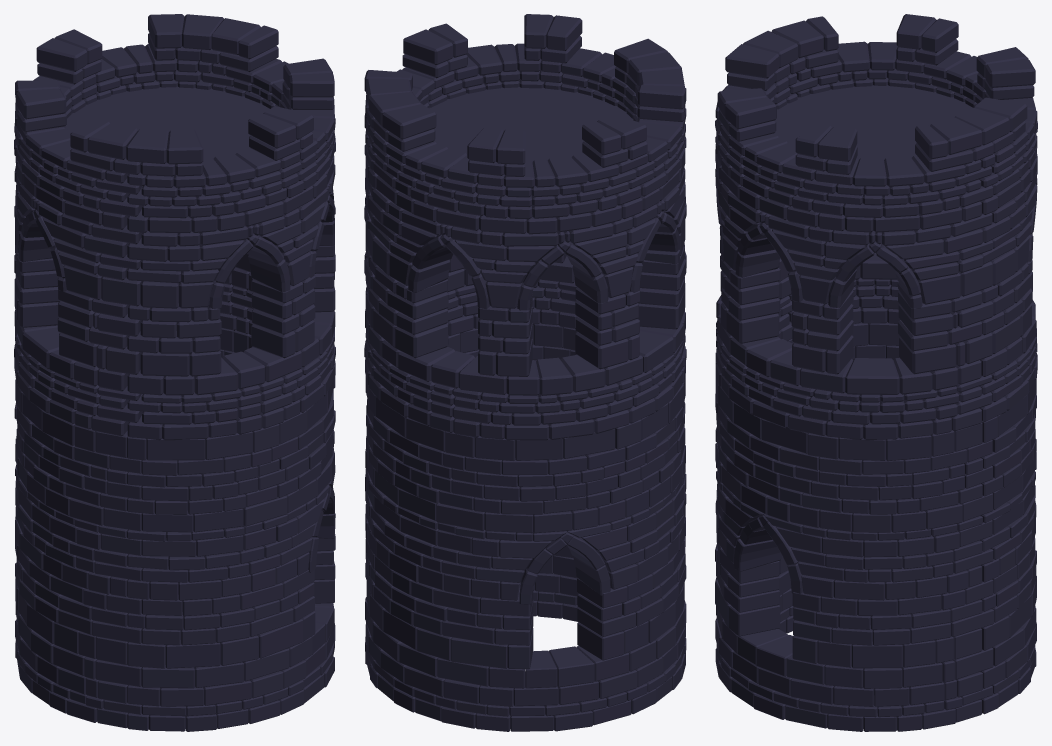
File: tower.fbx
3 renders of one model, left to right at view 1: azimuth 30°, elevation 25°; view 2: azimuth 150°, elevation 25°; view 3: azimuth 270°, elevation 25°, orthographic.
Parts seen in each view (by area): view 1: Wall.002; view 2: Wall.002; view 3: Wall.002.
Part boxes in pixels (left/top/right/bottom): Wall.002: left=14, top=14, right=335, bottom=731; Wall.002: left=364, top=14, right=686, bottom=731; Wall.002: left=715, top=14, right=1037, bottom=731.
Bounding box in the file's own units: 668 × 1337 × 668.
